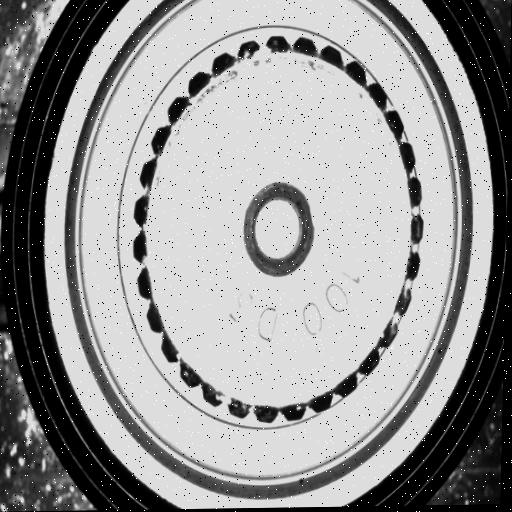gear: (124, 28, 432, 429)
